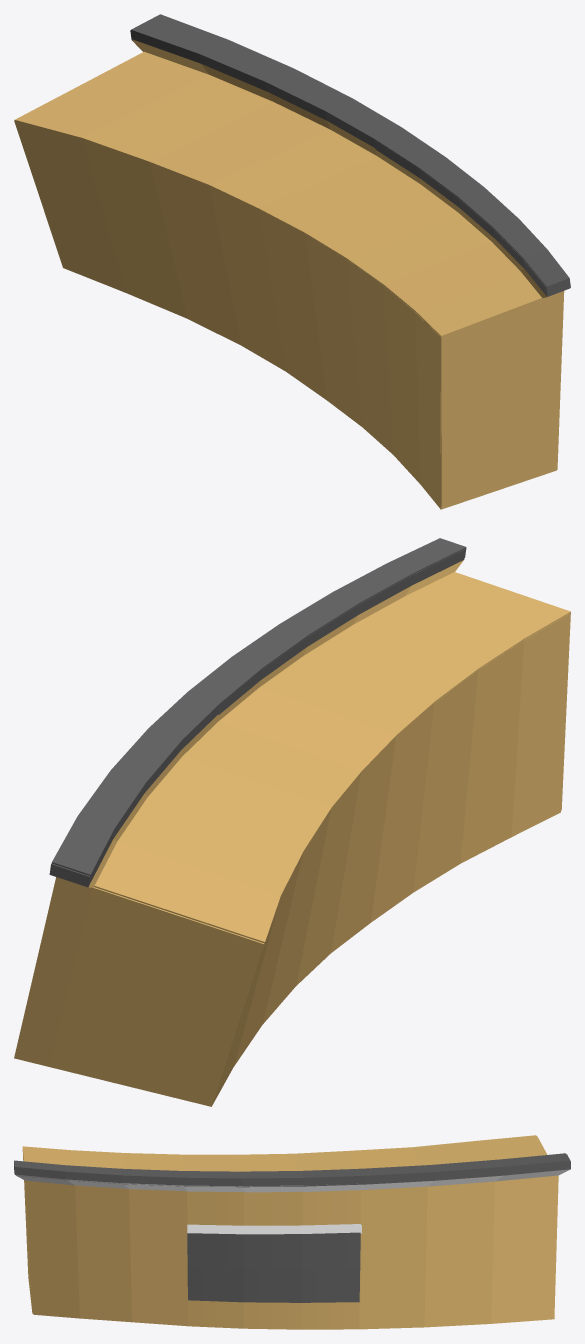
The model's file is REC Table1.fbx.
The picture shows the model from 3 angles, top to bottom: view 1: azimuth 30°, elevation 25°; view 2: azimuth 150°, elevation 25°; view 3: azimuth 270°, elevation 25°; orthographic projection. The views are drawn at different scales.
Parts seen in each view (by area): view 1: Cube, Cube.001; view 2: Cube, Cube.001; view 3: Cube, Cube.001.
Part boxes in pixels (bbox=[...]): Cube: bbox=[15, 14, 570, 508]; Cube.001: bbox=[14, 30, 569, 509]; Cube: bbox=[52, 538, 570, 1104]; Cube.001: bbox=[14, 549, 569, 1106]; Cube: bbox=[14, 1135, 569, 1328]; Cube.001: bbox=[16, 1136, 570, 1329].
Size of the model in its own units: 406 by 301 by 971.
